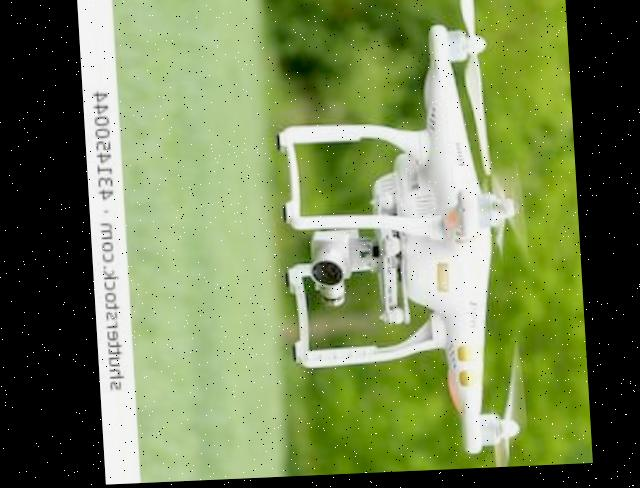drone: (251, 0, 551, 479)
